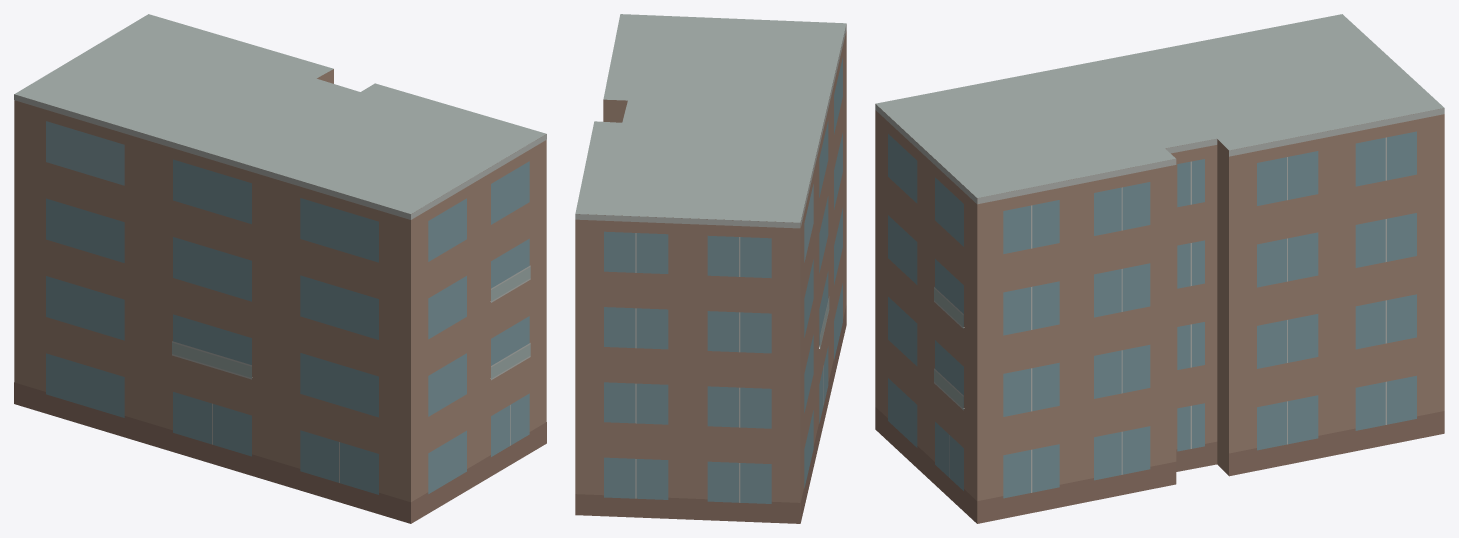
The model's file is survey-upis-32658962.glb.
3 renders of one model, left to right at view 1: azimuth 30°, elevation 25°; view 2: azimuth 150°, elevation 25°; view 3: azimuth 270°, elevation 25°, orthographic. The views are drawn at different scales.
Visible parts, largest first — view 1: survey-upis-32658962.tmp; view 2: survey-upis-32658962.tmp; view 3: survey-upis-32658962.tmp.
Part boxes in pixels (x1,y1,x2,y2): survey-upis-32658962.tmp: (14, 14, 546, 523); survey-upis-32658962.tmp: (575, 14, 846, 523); survey-upis-32658962.tmp: (875, 14, 1444, 523).
Bounding box in the file's own units: 15.59 × 12.85 × 20.37.
